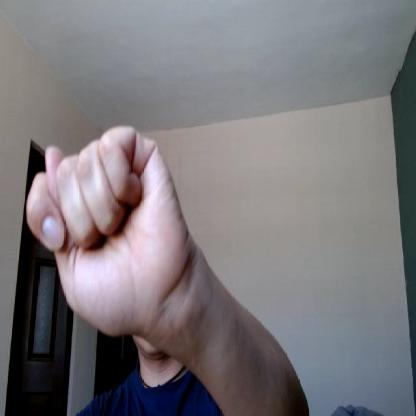T: (26, 123, 190, 337)
